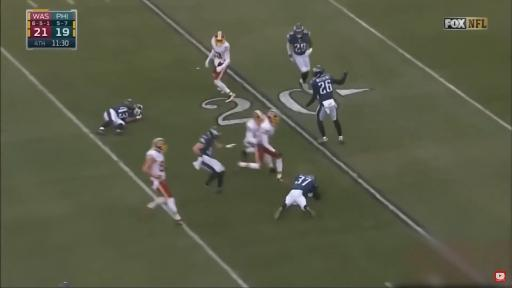Helmet: (152, 138, 167, 152), (267, 110, 279, 125), (214, 31, 225, 46), (209, 127, 221, 138), (254, 110, 264, 123), (294, 24, 303, 37), (313, 66, 324, 76), (134, 105, 143, 115)
Jersey: (311, 74, 333, 106), (287, 30, 310, 55), (146, 149, 165, 179), (292, 175, 317, 197), (212, 38, 230, 65), (257, 119, 274, 146), (112, 106, 137, 122), (199, 134, 215, 157), (245, 119, 259, 144)
Player: (142, 138, 181, 224), (306, 66, 347, 143), (238, 110, 282, 181), (193, 127, 234, 193), (205, 32, 235, 101), (275, 175, 319, 219), (287, 24, 312, 89), (98, 99, 143, 134), (242, 111, 265, 162)
